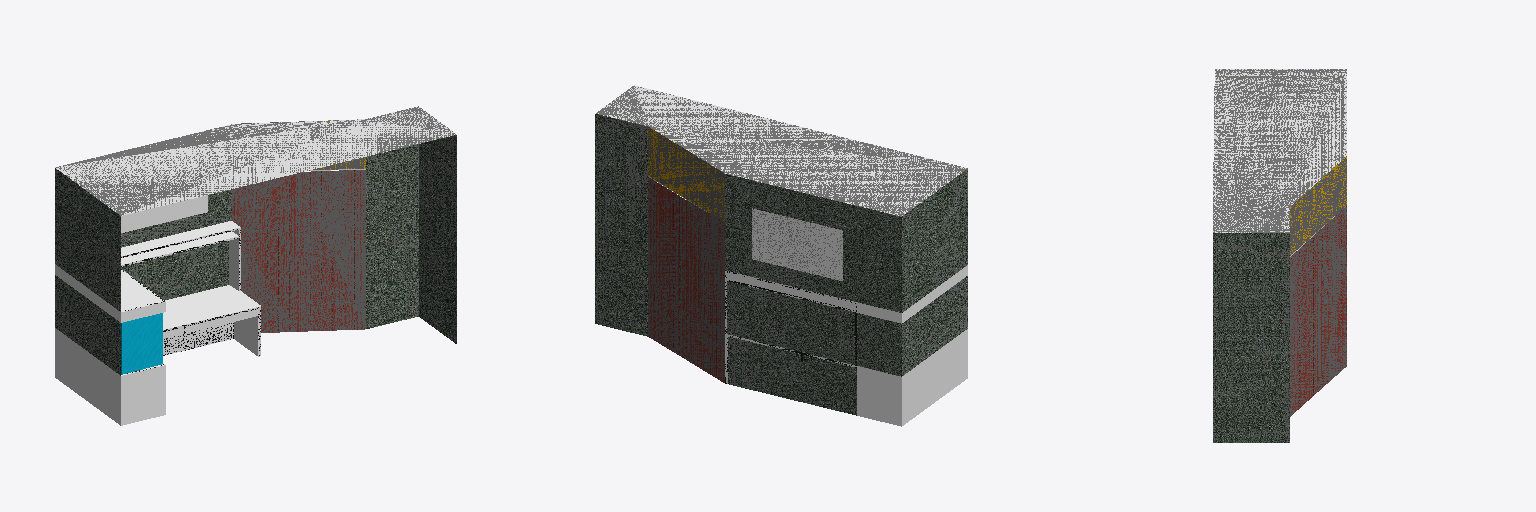
3 renders of one model, left to right at view 1: azimuth 30°, elevation 25°; view 2: azimuth 150°, elevation 25°; view 3: azimuth 270°, elevation 25°, orthographic.
Parts seen in each view (by area): view 1: mesh1_mesh1-geometry; view 2: mesh1_mesh1-geometry; view 3: mesh1_mesh1-geometry.
Boxes of the visible parts, x1,y1,x2,y2 form: mesh1_mesh1-geometry: [55, 106, 456, 425]; mesh1_mesh1-geometry: [595, 85, 967, 426]; mesh1_mesh1-geometry: [1213, 69, 1346, 442].
Bounding box in the file's own units: 0.8218 × 0.4926 × 0.2864.
Materials: 13 (3 with a texture image).